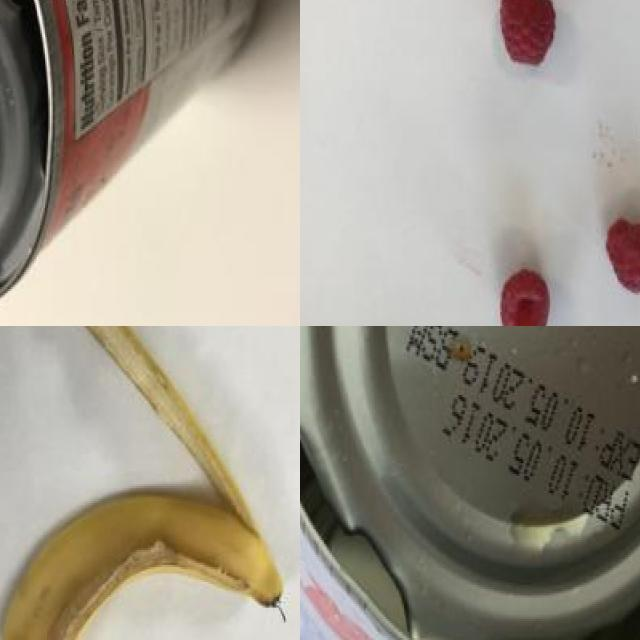compost: (0, 326, 300, 640), (492, 0, 640, 326)
plastic: (300, 326, 640, 640), (0, 0, 274, 272)
